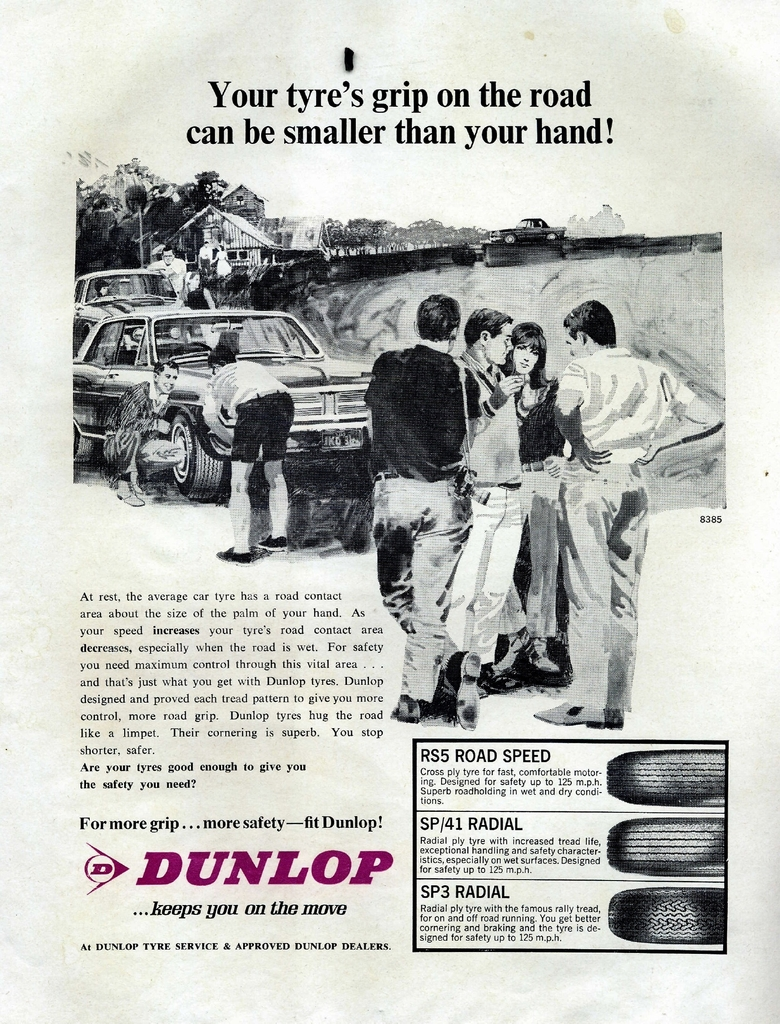Footwear: (531, 697, 608, 735), (453, 653, 481, 722), (537, 641, 565, 676), (495, 641, 520, 675), (392, 698, 422, 725), (587, 707, 624, 728), (217, 547, 252, 563), (257, 536, 289, 548)
